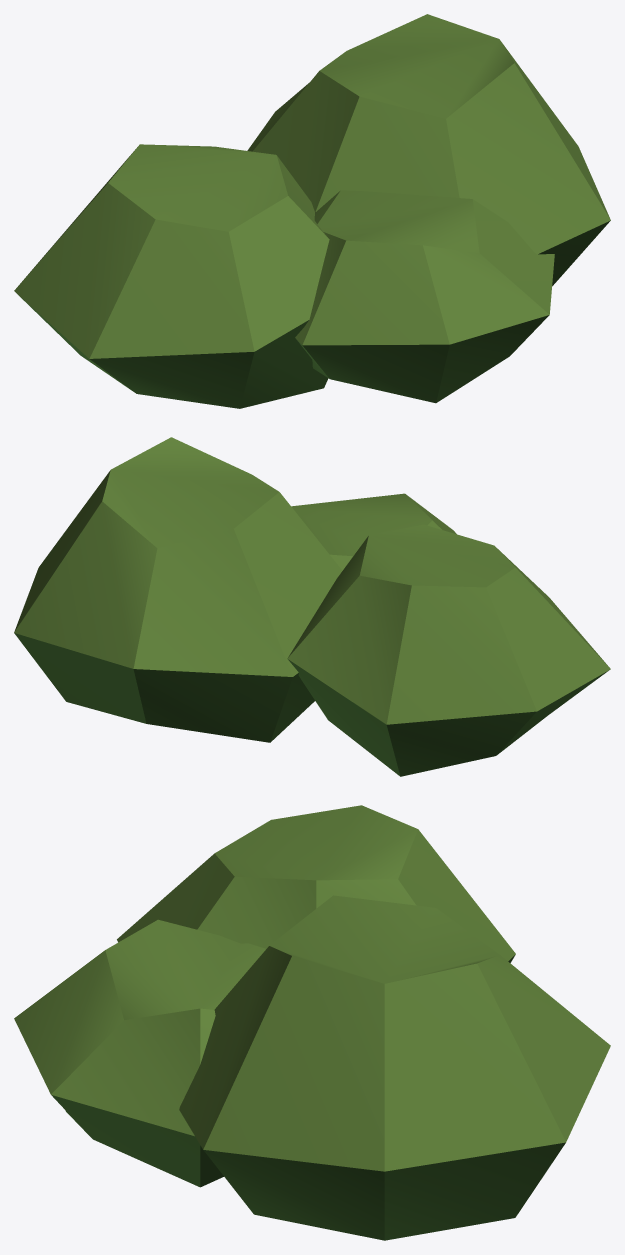
File: scrub.glb
3 views of the same model, one above another, from view 1: azimuth 30°, elevation 25°; view 2: azimuth 150°, elevation 25°; view 3: azimuth 270°, elevation 25° (orthographic). The views are drawn at different scales.
Parts seen in each view (by area): view 1: scrub; view 2: scrub; view 3: scrub.
Part boxes in pixels (bbox=[...]): scrub: bbox=[14, 14, 610, 408]; scrub: bbox=[14, 437, 610, 776]; scrub: bbox=[14, 805, 610, 1240].
Bounding box in the file's own units: 1.07 × 0.44 × 0.8745.
